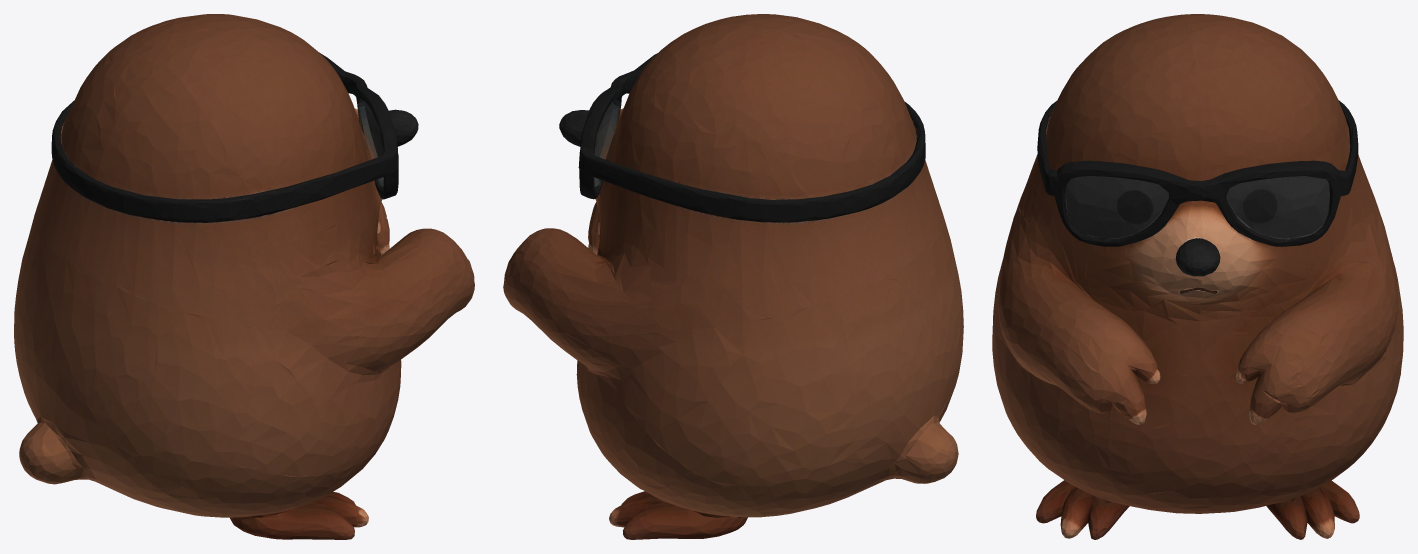
Rendered from sihans.glb.
3 renders of one model, left to right at view 1: azimuth 30°, elevation 25°; view 2: azimuth 150°, elevation 25°; view 3: azimuth 270°, elevation 25°, orthographic.
Visible parts, largest first — view 1: tripo_node_4e5c5cb5-768d-4632-884c-f0b9af67717c; view 2: tripo_node_4e5c5cb5-768d-4632-884c-f0b9af67717c; view 3: tripo_node_4e5c5cb5-768d-4632-884c-f0b9af67717c.
Boxes of the visible parts, x1,y1,x2,y2 form: tripo_node_4e5c5cb5-768d-4632-884c-f0b9af67717c: (14, 14, 474, 539); tripo_node_4e5c5cb5-768d-4632-884c-f0b9af67717c: (503, 14, 963, 539); tripo_node_4e5c5cb5-768d-4632-884c-f0b9af67717c: (992, 14, 1403, 539).
Size of the model in its own units: 0.8783 by 0.9792 by 0.7809.
1 material, 1 textured.
